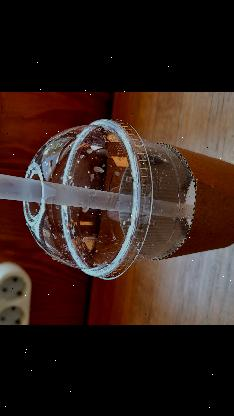Others: (22, 118, 234, 281), (21, 118, 152, 280), (0, 172, 197, 215)
